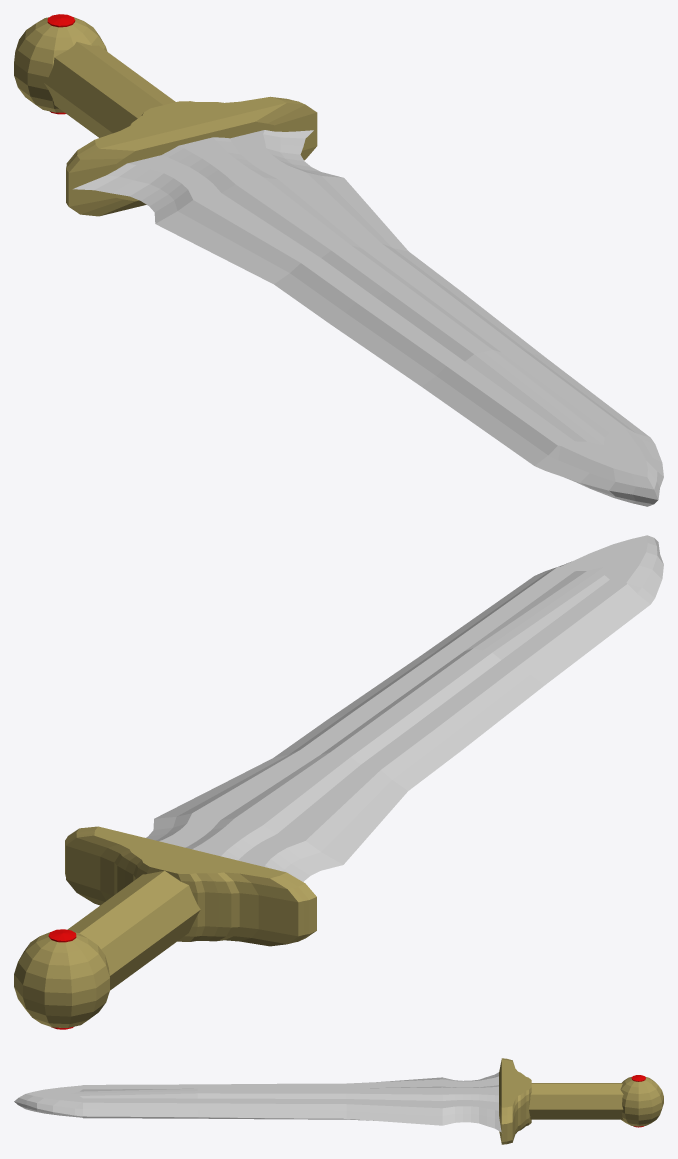
Rendered from Sword.fbx.
3 renders of one model, top to bottom at view 1: azimuth 30°, elevation 25°; view 2: azimuth 150°, elevation 25°; view 3: azimuth 270°, elevation 25°, orthographic. The views are drawn at different scales.
Visible parts, largest first — view 1: pCube1, pCube2, pCylinder1, pSphere1; view 2: pCube1, pCube2, pCylinder1, pSphere1; view 3: pCube1, pCylinder1, pCube2, pSphere1.
Boxes of the visible parts, <box> form: pCube1: <box>73,130,663,506</box>; pCube2: <box>66,96,317,216</box>; pCylinder1: <box>44,42,175,137</box>; pSphere1: <box>14,14,107,114</box>; pCube1: <box>146,535,663,881</box>; pCube2: <box>65,826,316,946</box>; pCylinder1: <box>67,870,200,990</box>; pSphere1: <box>14,929,109,1029</box>; pCube1: <box>14,1072,501,1132</box>; pCylinder1: <box>529,1083,623,1119</box>; pCube2: <box>499,1058,531,1144</box>; pSphere1: <box>620,1075,663,1127</box>.
Bounding box in the file's own units: 1.57 × 0.5576 × 6.8.
